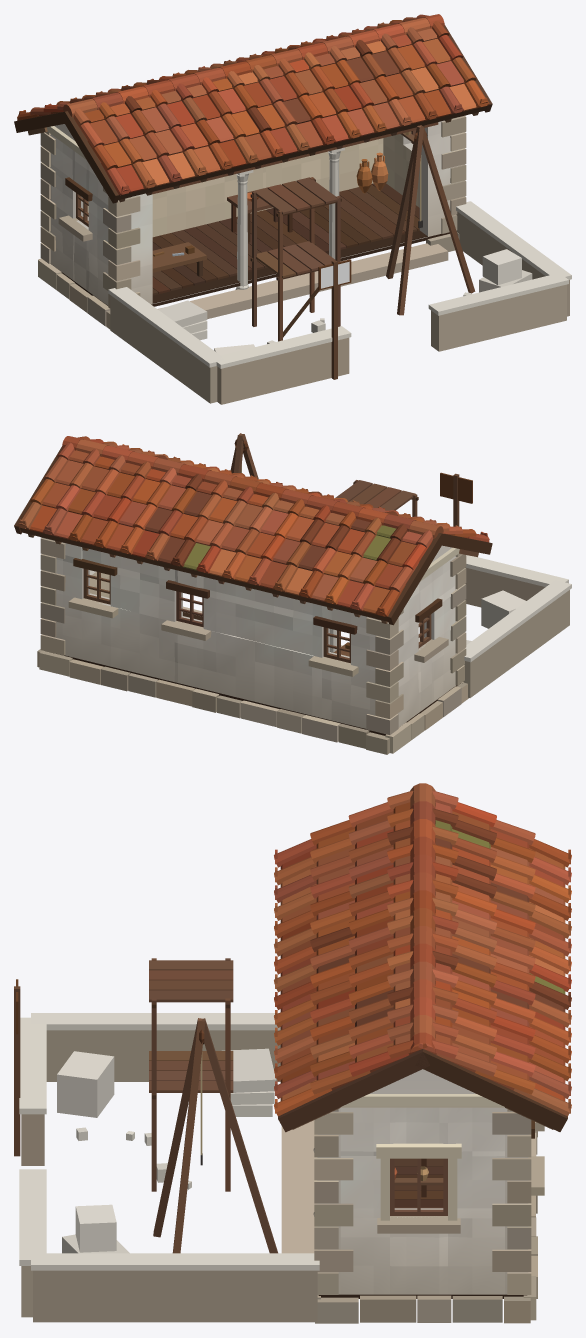
The model's file is civ_sculptor.glb.
3 renders of one model, top to bottom at view 1: azimuth 30°, elevation 25°; view 2: azimuth 150°, elevation 25°; view 3: azimuth 270°, elevation 25°, orthographic. The views are drawn at different scales.
Parts seen in each view (by area): view 1: House, Rooms, Walls; view 2: House, Walls; view 3: House, Walls, Rooms.
Boxes of the visible parts, x1=… form: House: x1=14, y1=14, x2=571, y2=404; Rooms: x1=87, y1=131, x2=419, y2=295; Walls: x1=50, y1=117, x2=461, y2=305; House: x1=14, y1=433, x2=571, y2=754; Walls: x1=44, y1=542, x2=456, y2=728; House: x1=14, y1=783, x2=571, y2=1323; Walls: x1=317, y1=1069, x2=528, y2=1294; Rooms: x1=394, y1=1158, x2=443, y2=1208.
Size of the model in its own units: 5.89 by 3 by 5.29.
Materials: 7 (7 with a texture image).
